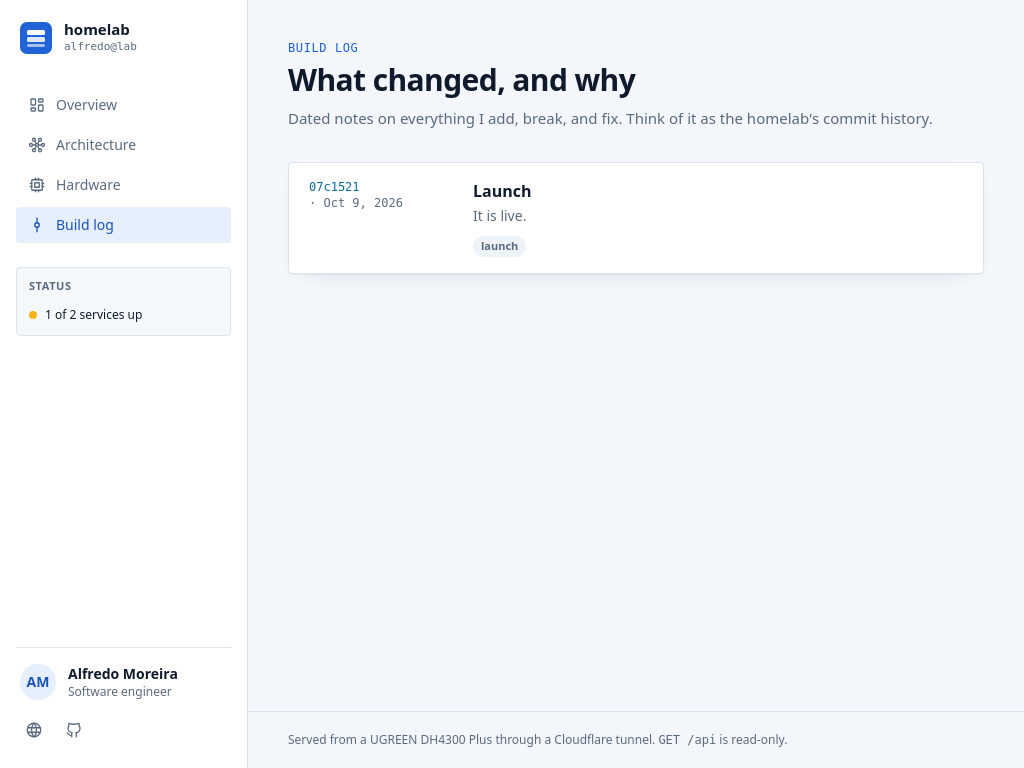
Test case: Other routes › navigates from the log list to an entry (client-side)
Click the link "07c1521 · Oct 9, 2026 Launch It is live. launch". click: (334, 187)
box: [309,180,532,257]
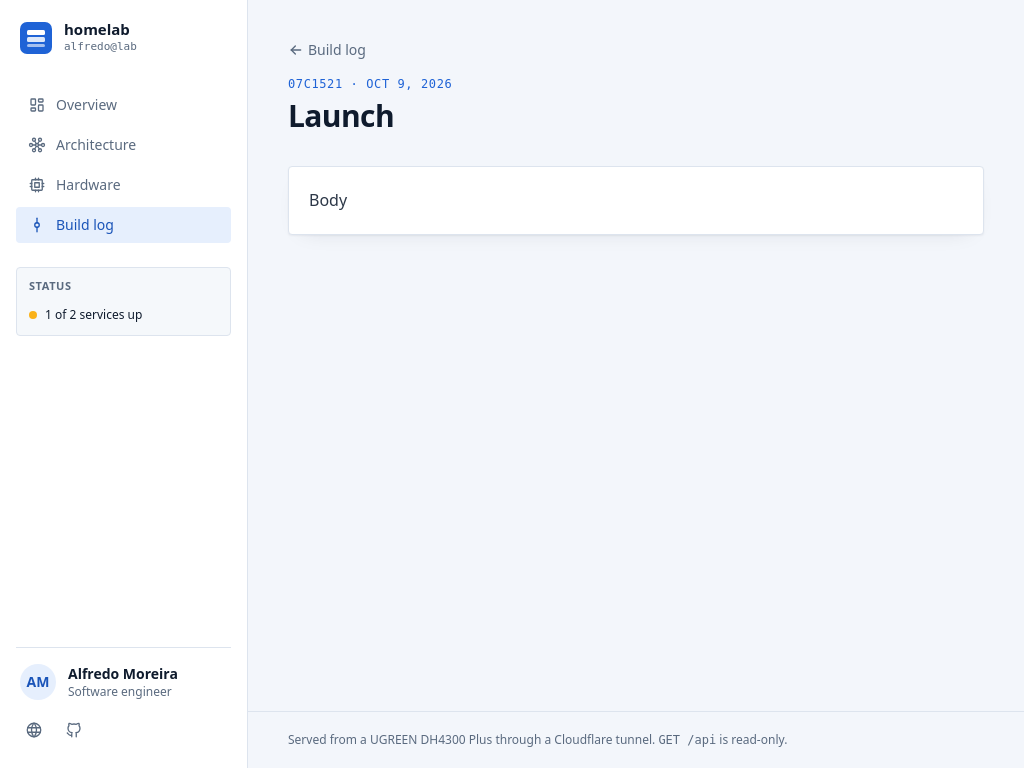
Check: the heading "Launch" is shown, box [288,95,394,136]
